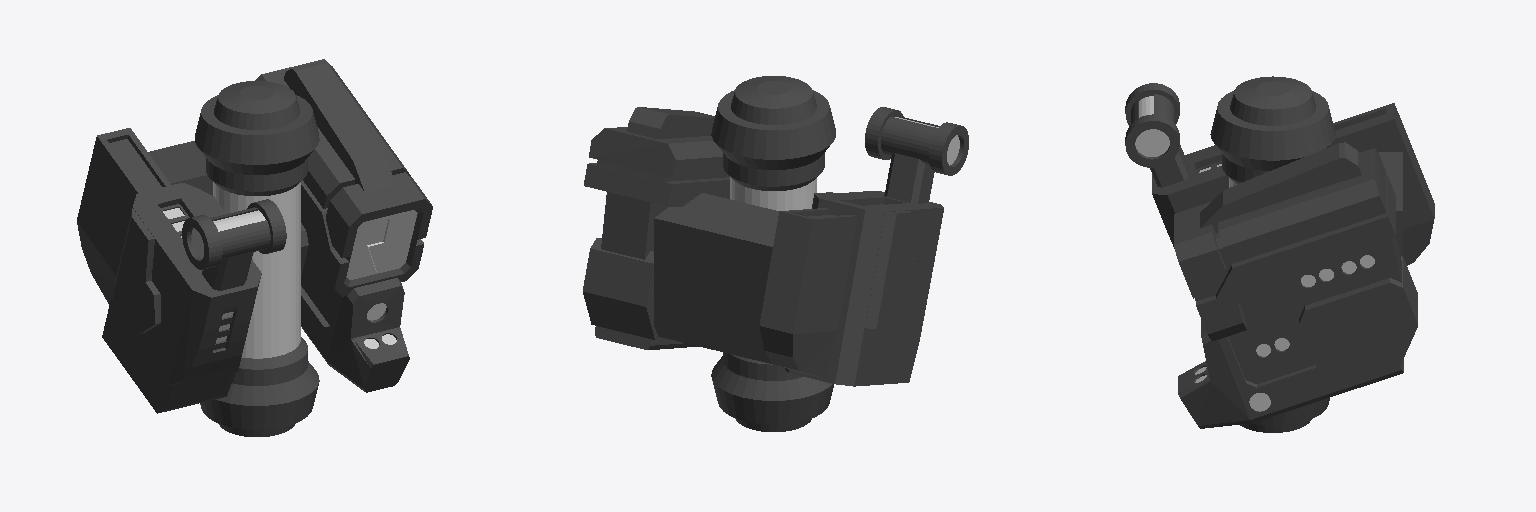
The model's file is lock6.obj.
3 renders of one model, left to right at view 1: azimuth 30°, elevation 25°; view 2: azimuth 150°, elevation 25°; view 3: azimuth 270°, elevation 25°, orthographic.
Visible parts, largest first — view 1: Cylinder.004_Cylinder.005; view 2: Cylinder.004_Cylinder.005; view 3: Cylinder.004_Cylinder.005.
Boxes of the visible parts, x1,y1,x2,y2 form: Cylinder.004_Cylinder.005: [77, 59, 432, 436]; Cylinder.004_Cylinder.005: [583, 76, 968, 431]; Cylinder.004_Cylinder.005: [1125, 76, 1434, 432].
Size of the model in its own units: 0.8683 by 1.09 by 0.9187.